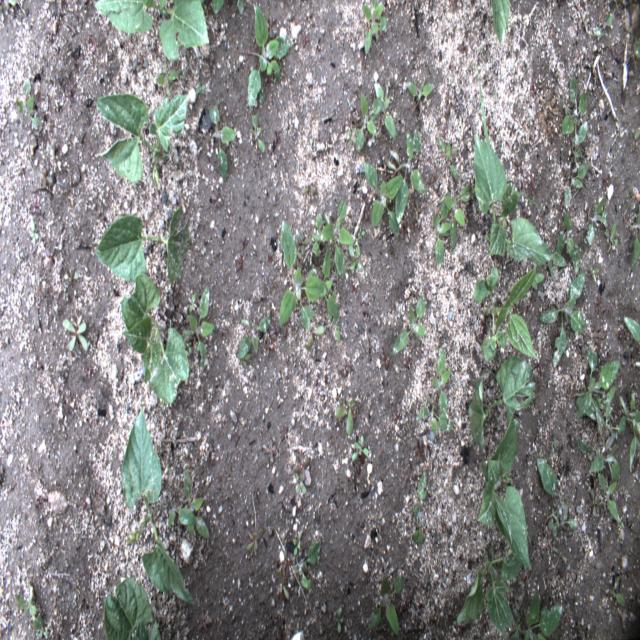crop: (122, 404, 195, 606), (474, 126, 558, 266), (454, 547, 564, 638), (119, 272, 192, 404), (478, 404, 533, 576), (95, 91, 189, 186), (93, 202, 194, 290), (472, 259, 547, 361), (94, 0, 209, 65), (466, 351, 540, 445), (535, 458, 586, 533), (104, 576, 162, 639)
weed: (277, 220, 329, 336), (539, 271, 587, 374), (247, 3, 286, 111), (577, 439, 623, 529), (310, 196, 356, 282), (392, 124, 430, 224), (576, 346, 620, 431), (414, 344, 450, 442), (363, 159, 404, 242), (167, 467, 211, 539), (388, 288, 430, 359), (563, 114, 593, 210), (207, 104, 240, 184), (584, 188, 622, 254), (367, 573, 404, 638), (186, 285, 214, 366), (612, 390, 640, 469), (551, 201, 584, 268), (351, 90, 385, 154), (559, 74, 591, 142), (443, 181, 473, 247), (320, 246, 340, 342), (432, 192, 454, 276), (237, 315, 274, 361), (290, 540, 320, 594), (372, 81, 398, 142), (409, 472, 428, 553), (16, 87, 45, 135), (362, 2, 388, 55), (61, 318, 91, 354), (436, 138, 458, 187), (16, 594, 44, 632), (489, 0, 511, 44), (334, 396, 355, 437), (346, 239, 368, 272), (250, 113, 266, 154), (609, 576, 626, 608), (622, 316, 640, 345), (408, 80, 434, 100), (246, 527, 263, 556), (154, 71, 182, 88), (352, 438, 369, 459), (335, 606, 345, 635), (631, 236, 640, 268), (292, 531, 302, 558), (277, 581, 290, 600), (296, 473, 306, 495), (210, 0, 225, 14), (237, 0, 245, 20)
